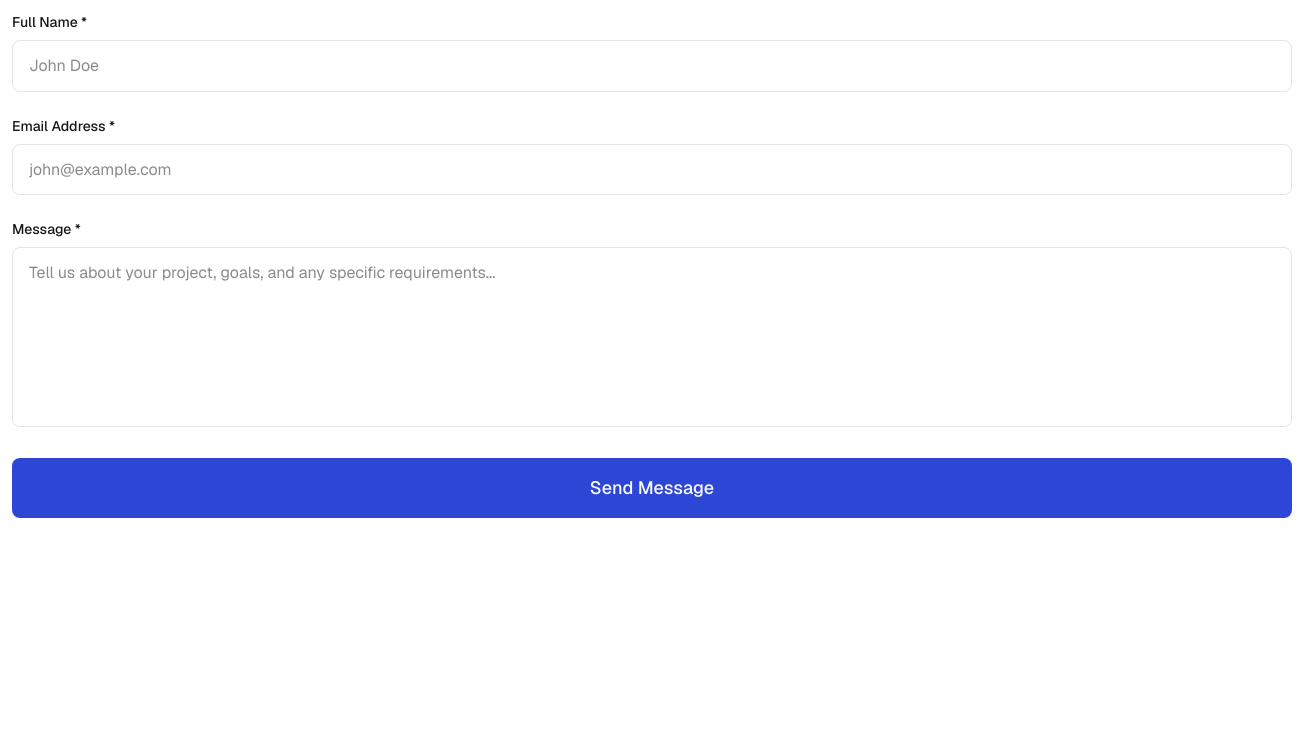
Test: ContactForm › shows validation errors for empty fields
Click the button "Send Message". click: [652, 488]
box: [12,458,1292,518]
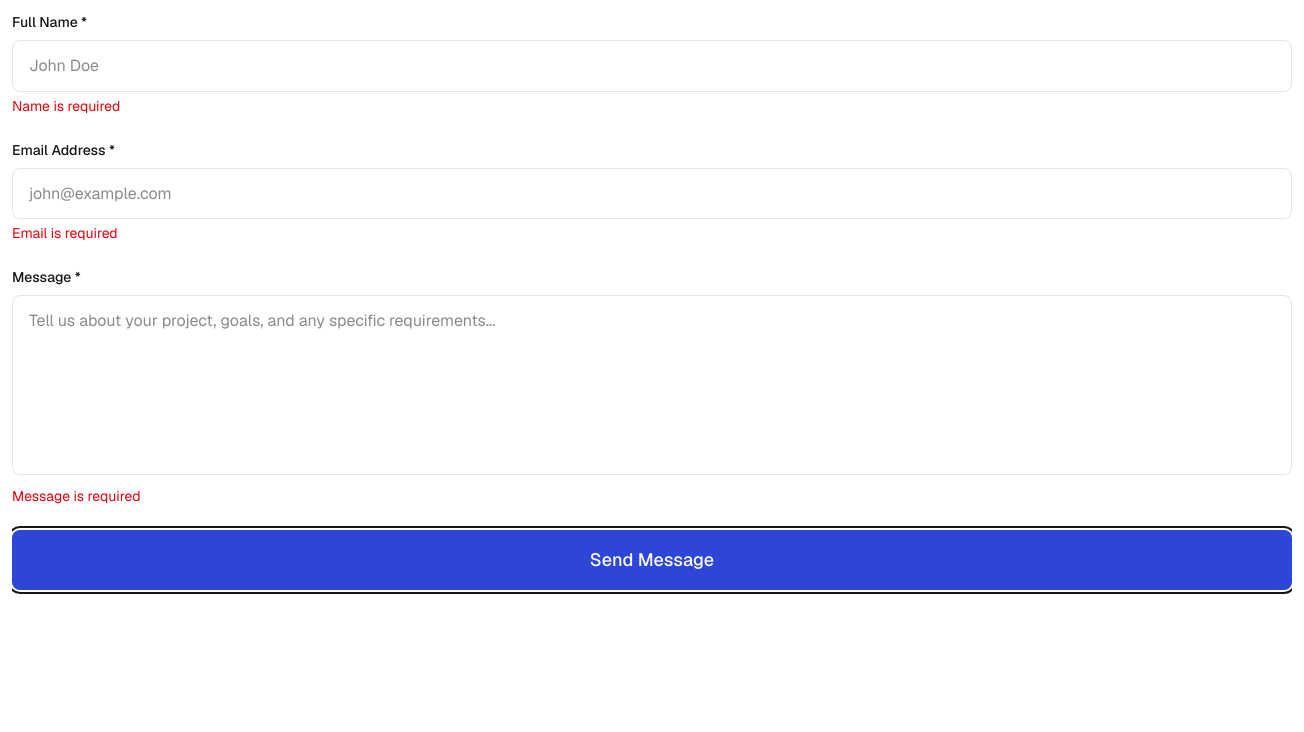
Expected: the text "Name is required" is shown, [12,97,120,115]
Expected: the text "Email is required" is shown, [12,224,118,242]
Expected: the text "Message is required" is shown, [12,487,140,505]
